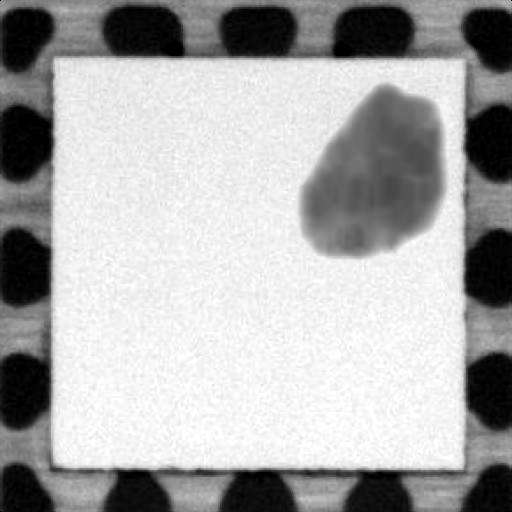DIE_INK: (294, 75, 447, 263)
